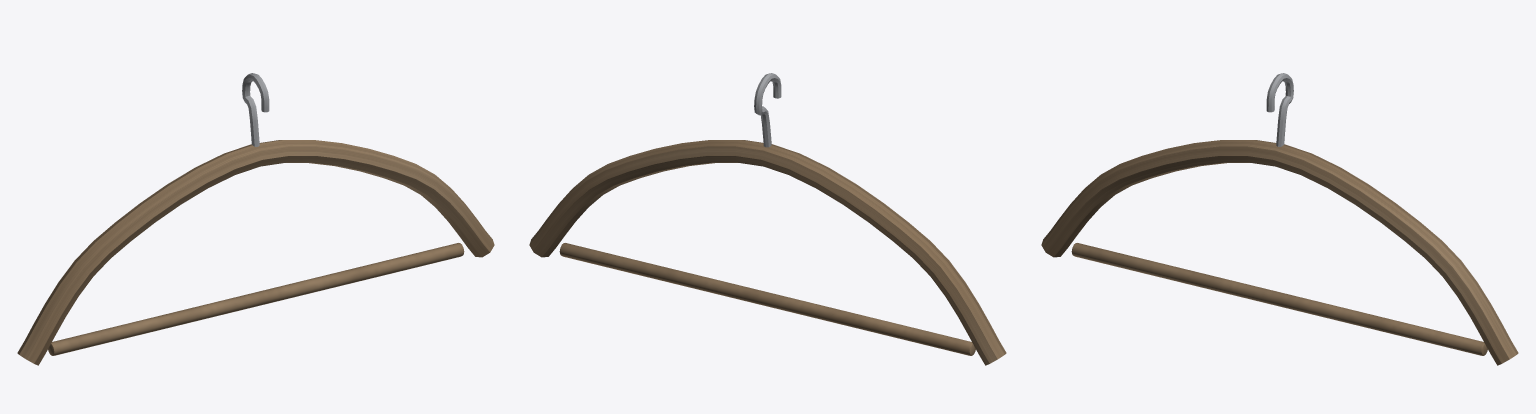
The model's file is pf_hanger_wood.glb.
3 renders of one model, left to right at view 1: azimuth 30°, elevation 25°; view 2: azimuth 150°, elevation 25°; view 3: azimuth 330°, elevation 25°, orthographic.
Visible parts, largest first — view 1: pf_hanger_wood_body; view 2: pf_hanger_wood_body; view 3: pf_hanger_wood_body.
Boxes of the visible parts, left/top/right/bottom form: pf_hanger_wood_body: left=17, top=73, right=494, bottom=365; pf_hanger_wood_body: left=529, top=73, right=1006, bottom=365; pf_hanger_wood_body: left=1041, top=73, right=1518, bottom=365.
Bounding box in the file's own units: 0.461 × 0.2435 × 0.0397.
Materials: 3 (1 with a texture image).
